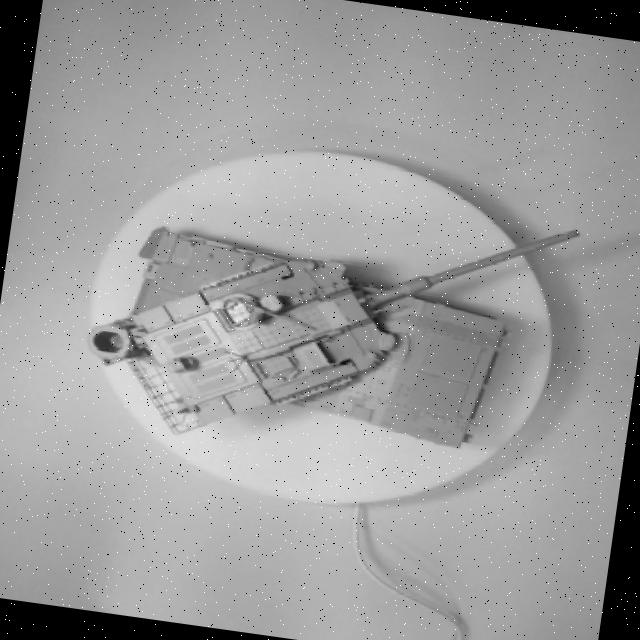korea tank: (51, 122, 630, 536)
